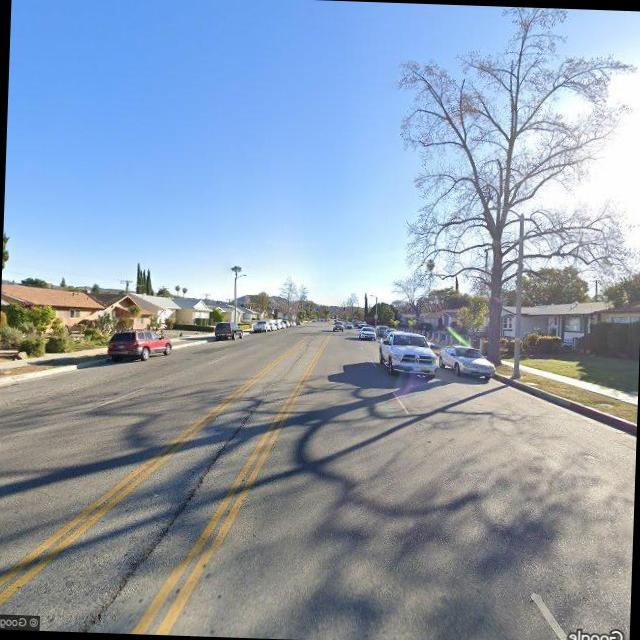crack: (88, 380, 260, 631)
